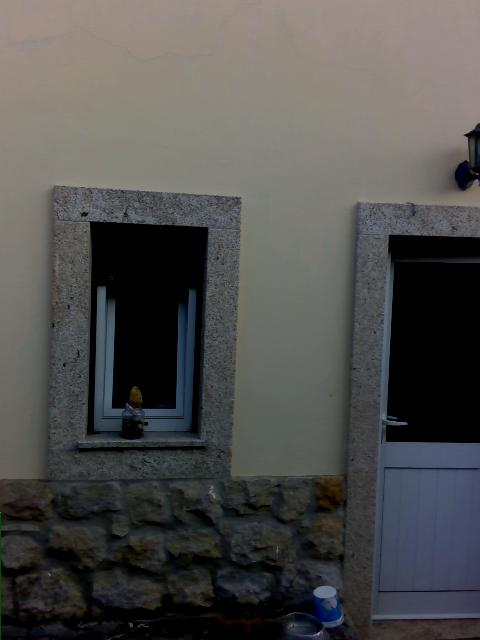closed_door: (370, 235, 479, 620)
